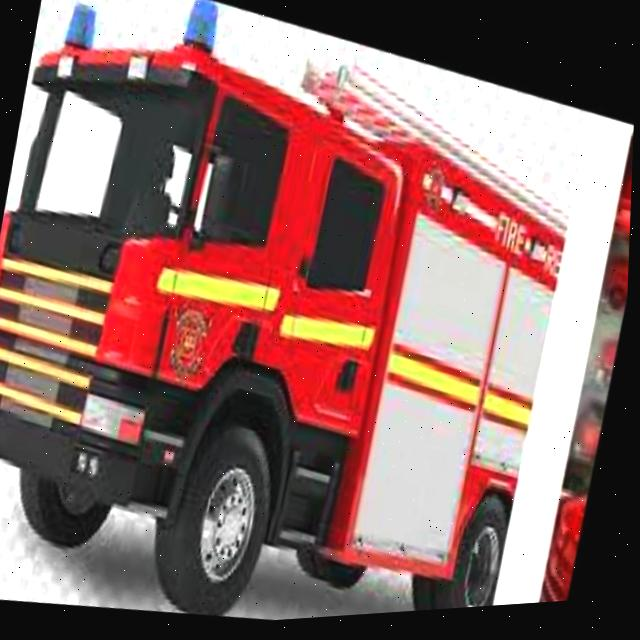emergency: (0, 0, 598, 640)
